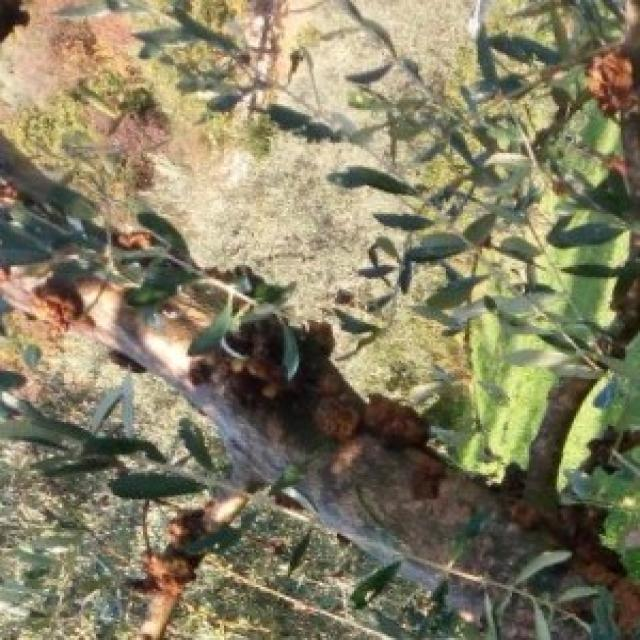Tuberculosis: (19, 271, 495, 531), (128, 493, 245, 638), (540, 508, 638, 638)
